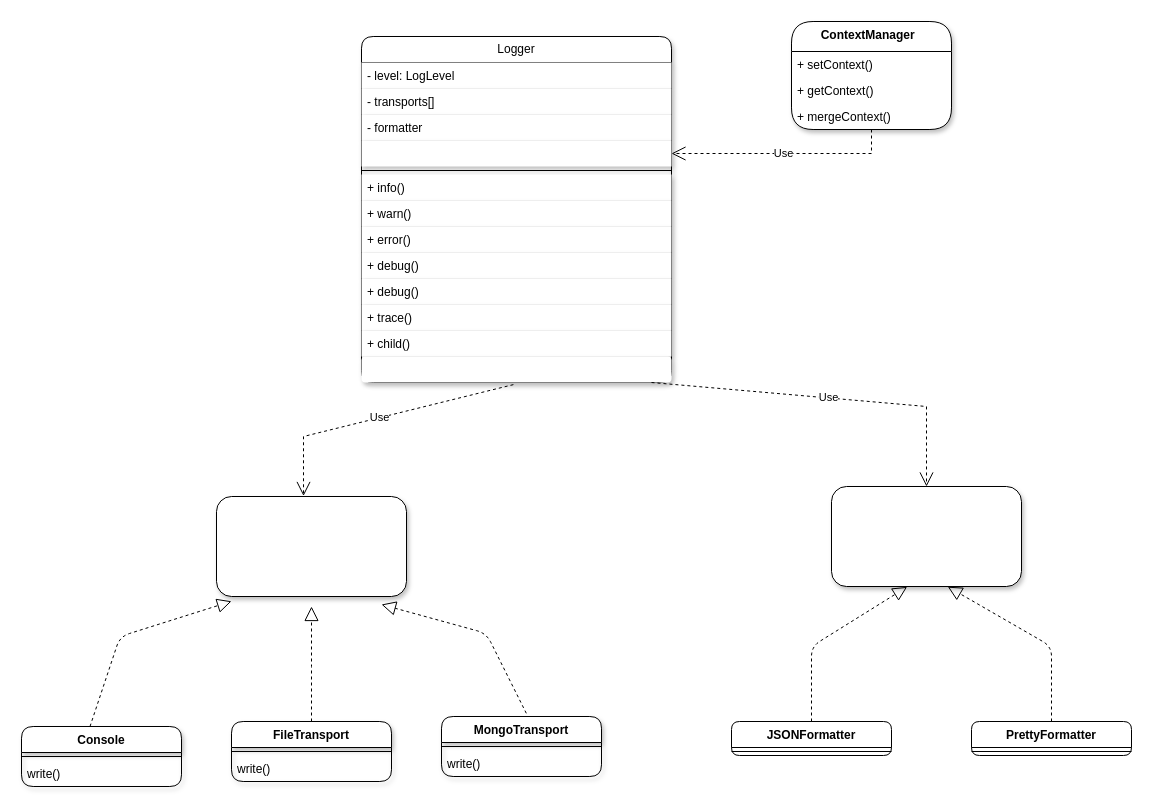
Some shapes in this 1149 by 811 pixel diagram are drawn without their labels. The shapes that lost their labels are listed below. From the top down, each one's centre as x and y in pixels, then its label:
At (x=517, y=154): "- contextManager".
At (x=517, y=370): "+ withContext()".
At (x=312, y=548): "<<Interface>> ITransport + write(entry) + flush()".
At (x=927, y=538): "<<Interface>> IFormatter + format(entry)".
